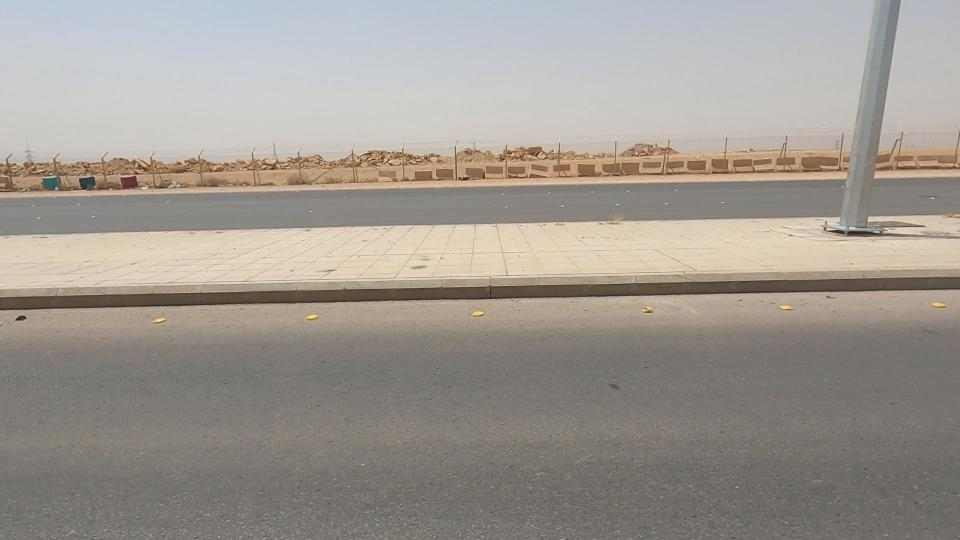GARBAGE: (146, 162, 202, 200), (123, 169, 165, 208)
